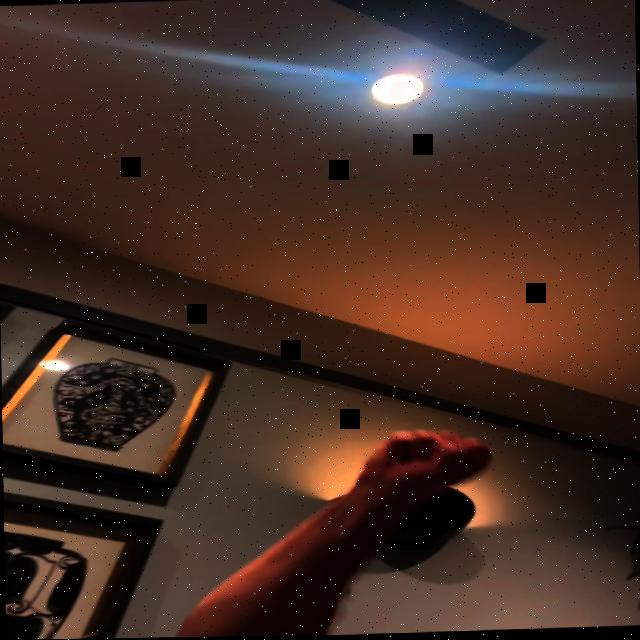Rock: (354, 428, 494, 502)
